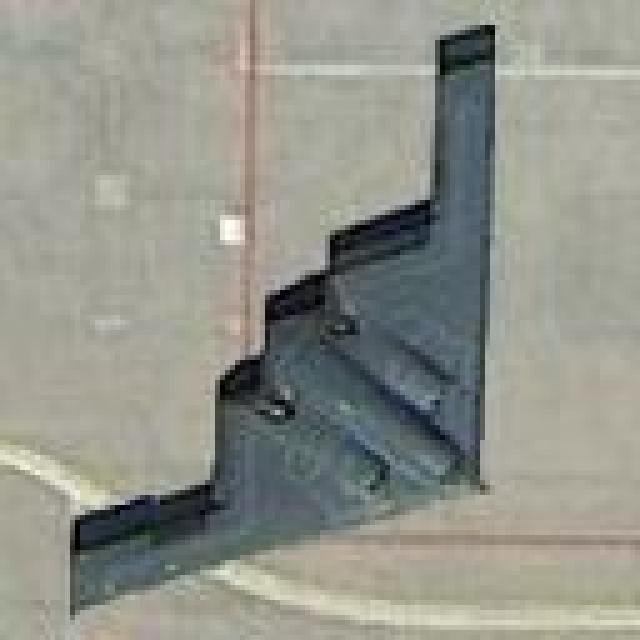B-2_TopDown: (0, 15, 505, 635)
